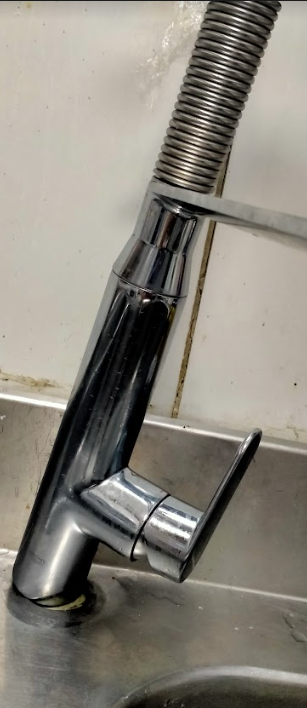Deck Faucet: (7, 4, 292, 661)
